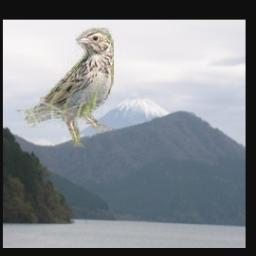Sparrow: (13, 28, 115, 147)
